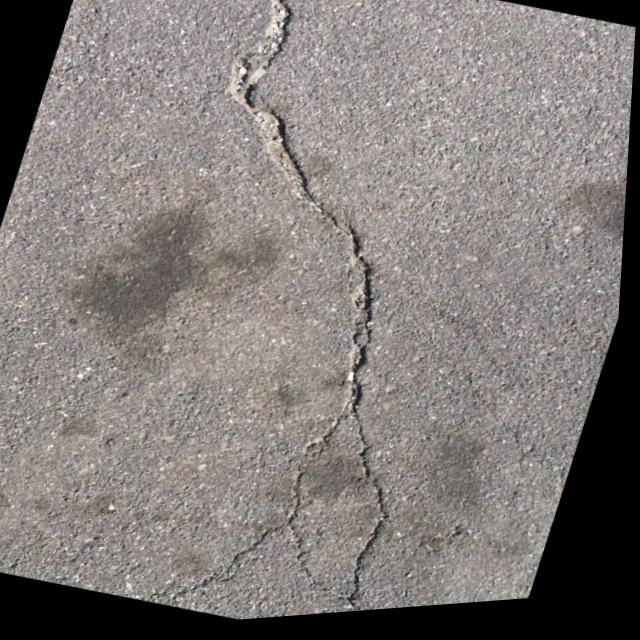Crack: (65, 0, 588, 634)
